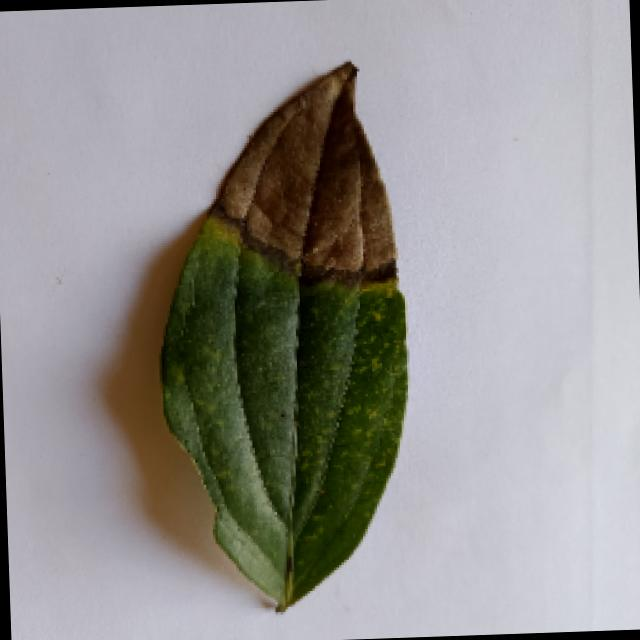footrot: (143, 59, 420, 616)
